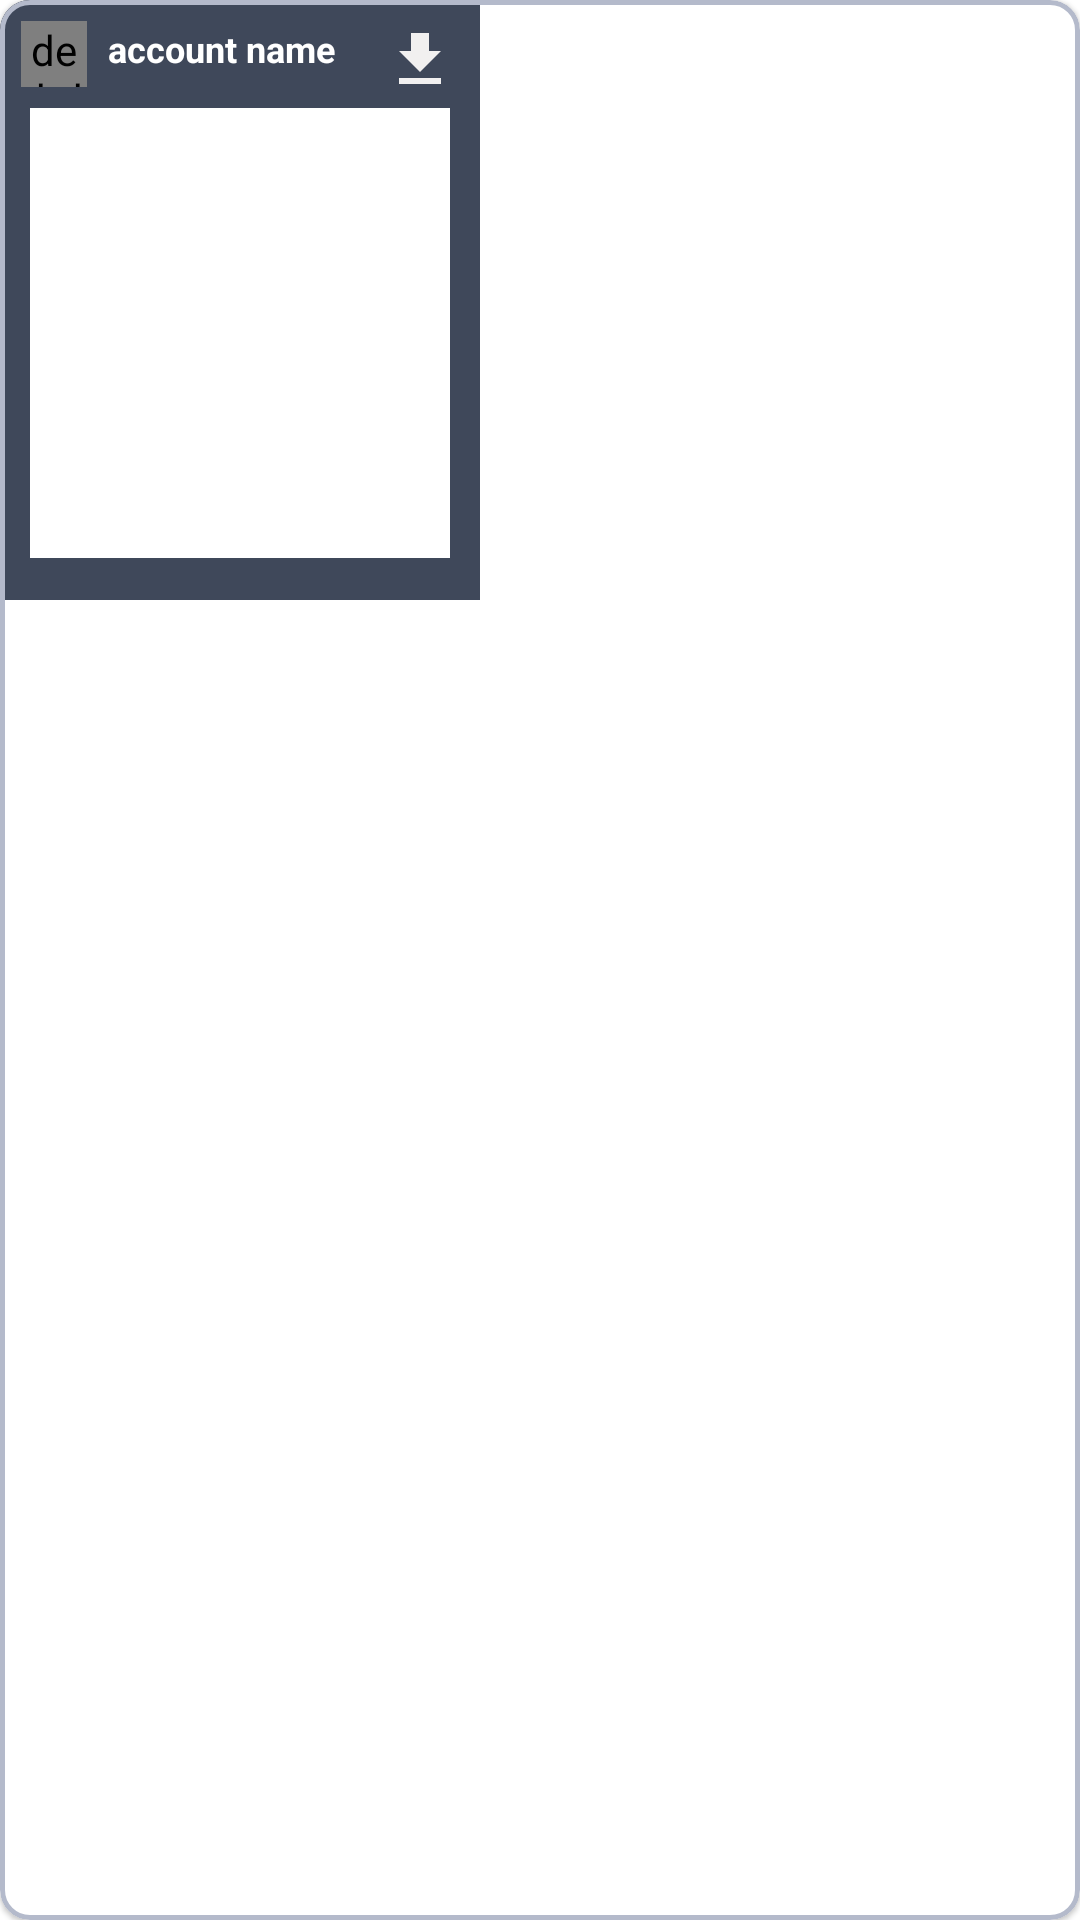

Icon click points for this 1080px x 1920px phone screenshot, format point (x, y):
file download: point (420, 58)
